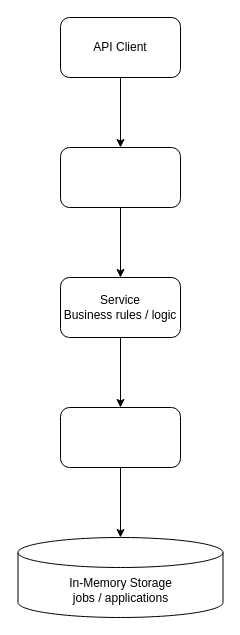
Some shapes in this 240 by 635 pixel diagram are drawn without their labels. Here are the shapes that lost their labels. From the top down, the centre of each, then its label:
At point (120, 177): "Router / Controller /jobs endpoints".
At point (120, 437): "Repository Data access".
